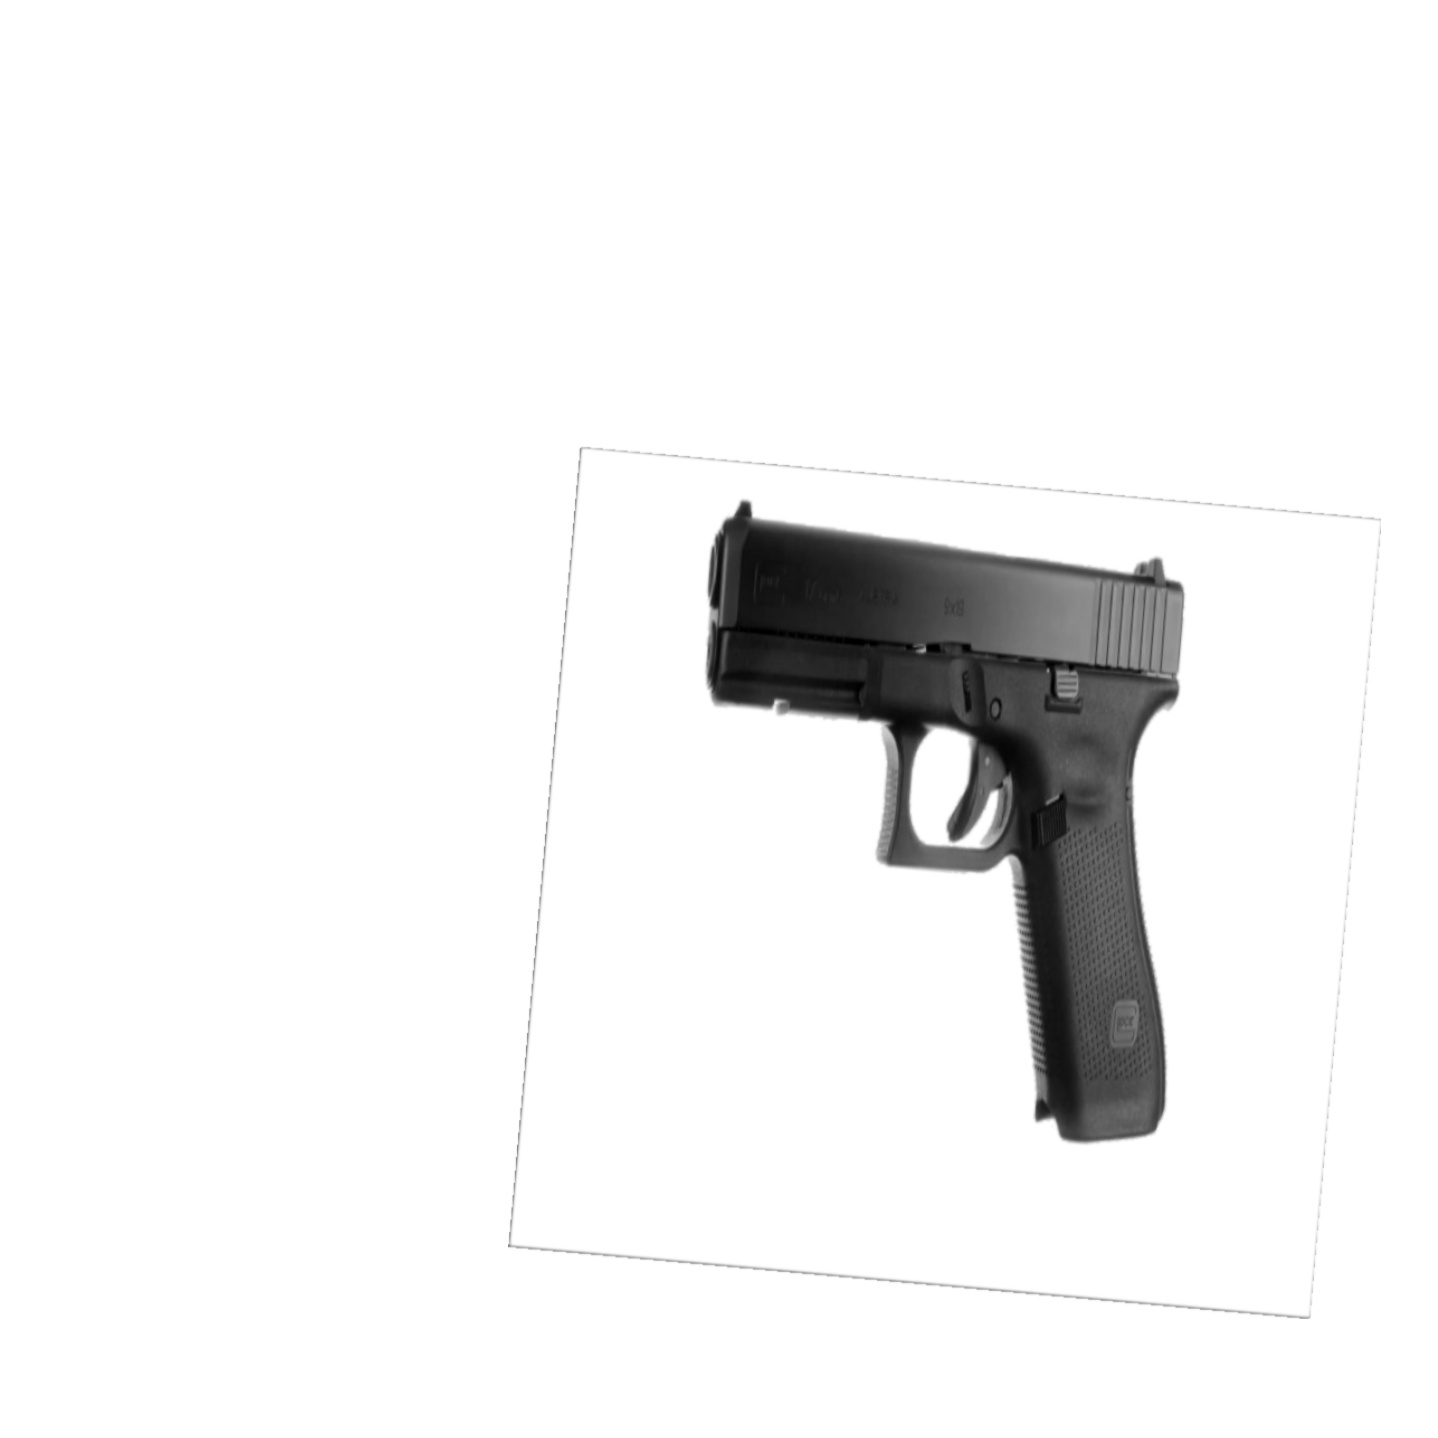gun: (706, 499, 1186, 1142)
